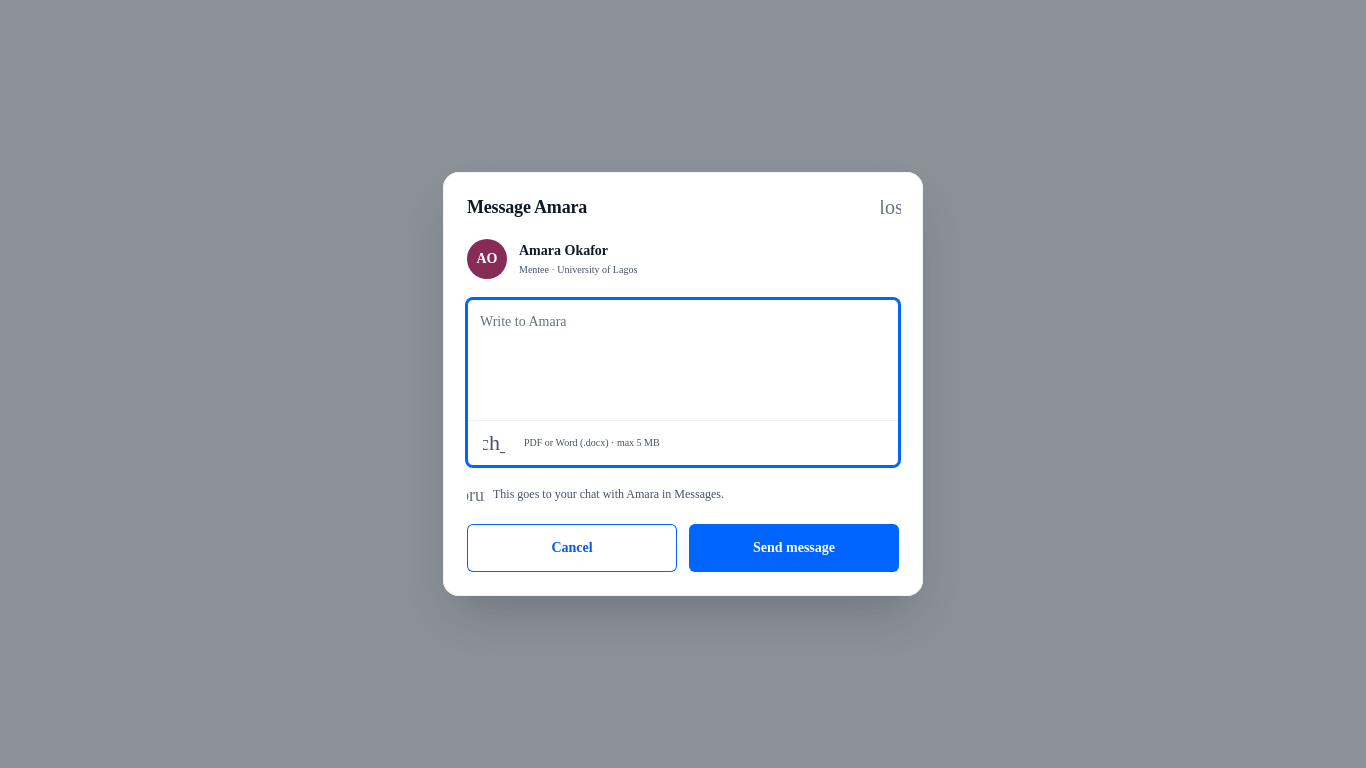
SendMessage: compose › with nothing written, Send says so and marks the box, sending nothing
Click the button "Send message": (794, 548) [689,524,899,572]
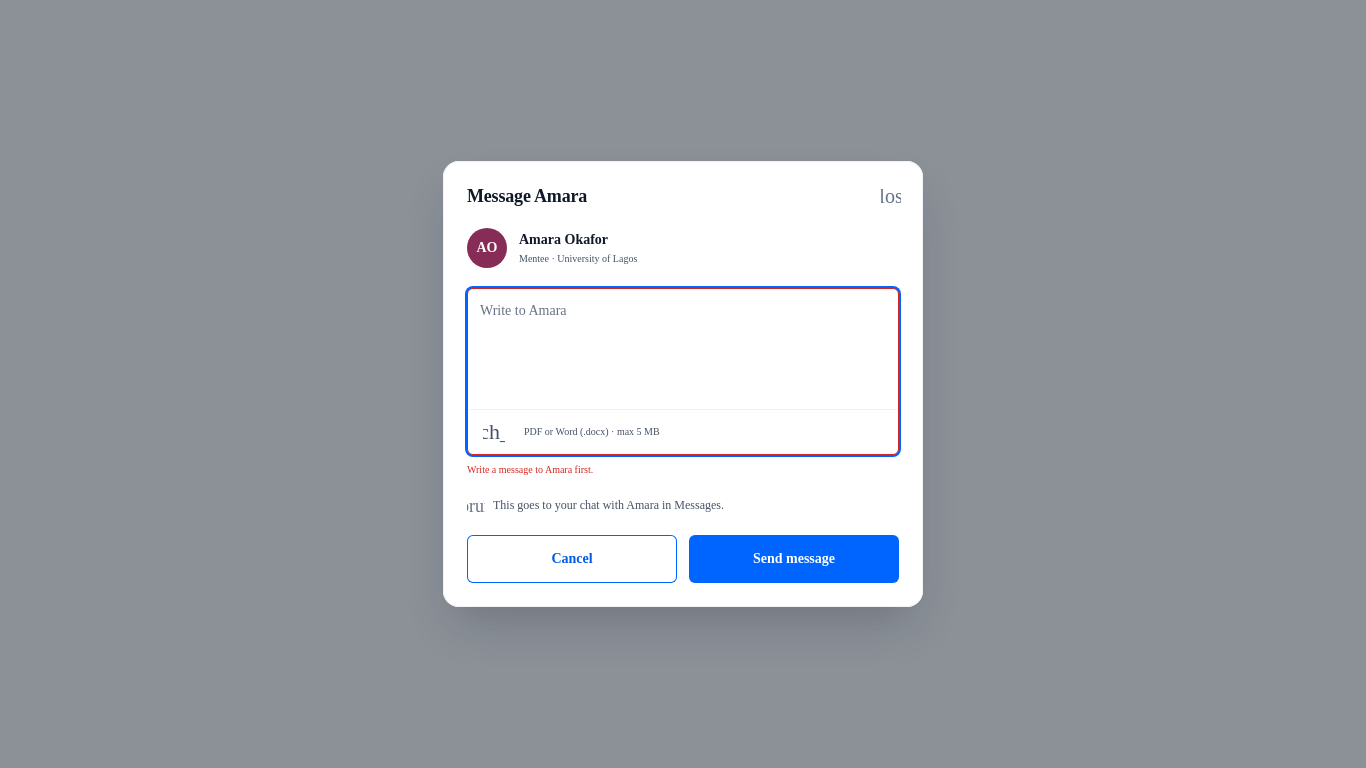
Check: the message reads "Write a message to Amara first.", box [467,464,593,475]
